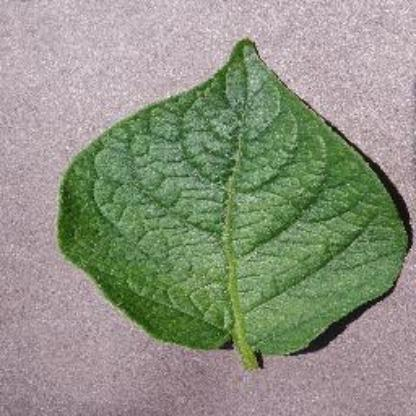Healthy-plant: (51, 36, 415, 366)
